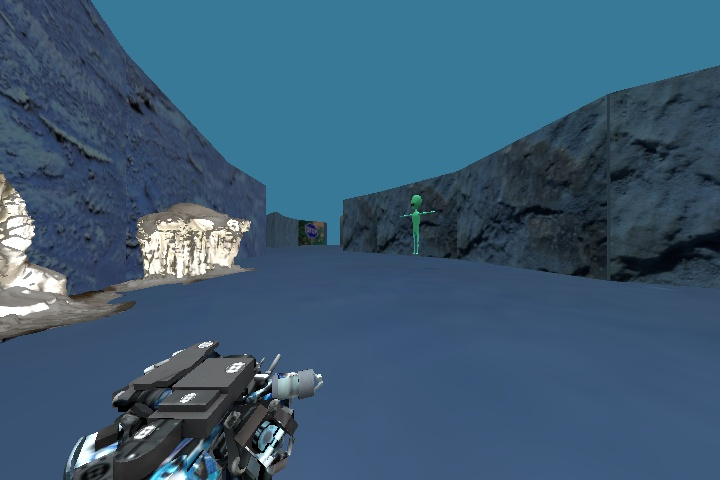formation: (129, 194, 250, 281)
green_alien: (395, 185, 440, 255)
